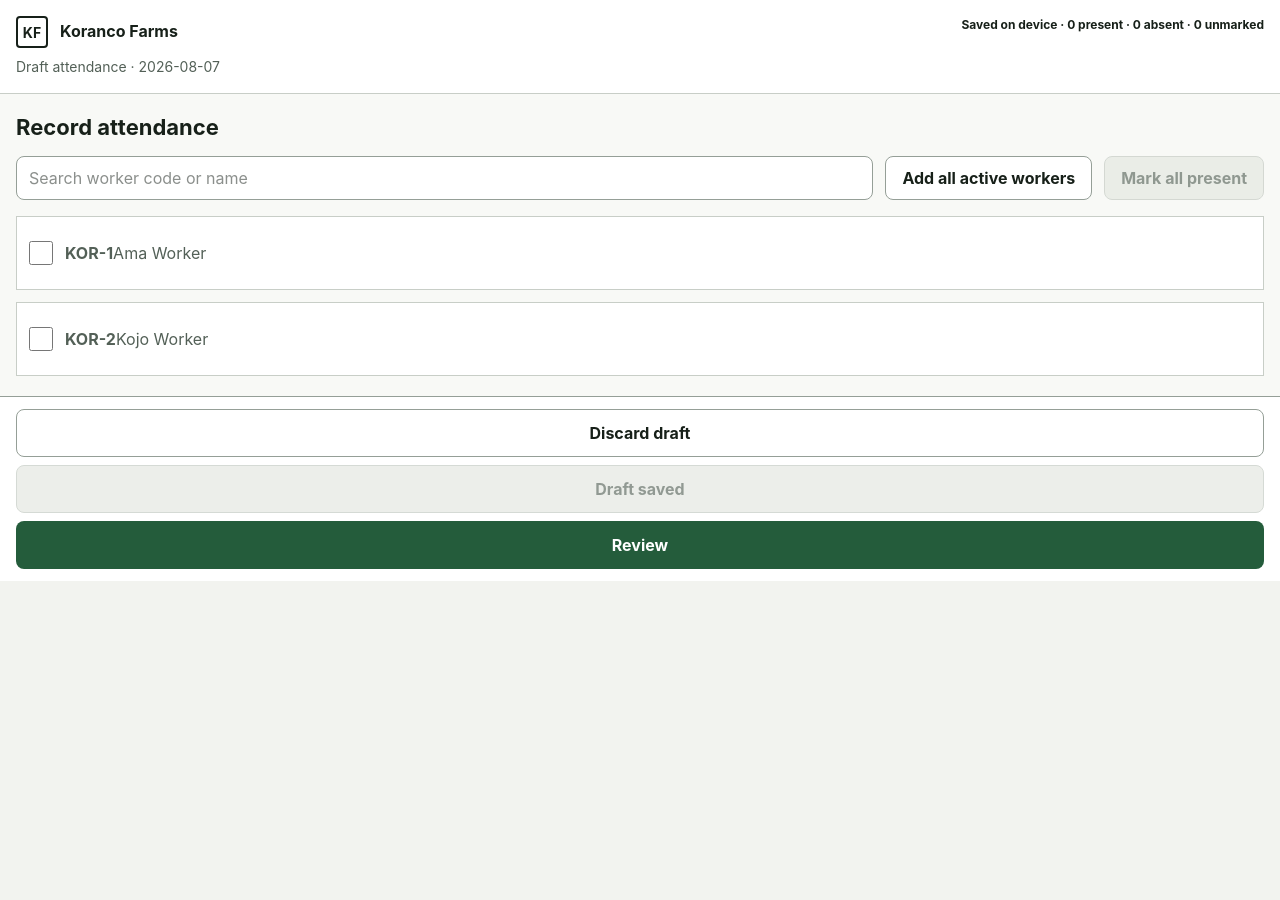
AttendanceWorkspace draft roster › saves the roster as one batch before review
The width and height of the screenshot is (1280, 900).
Expected: the text "Ama Worker" is shown, 113,243 -> 206,263
What coordinates should you click on to do the following:
click the button "Add all active workers"
I would click on:
 (989, 178)
Its box is 886,156 -> 1092,200.
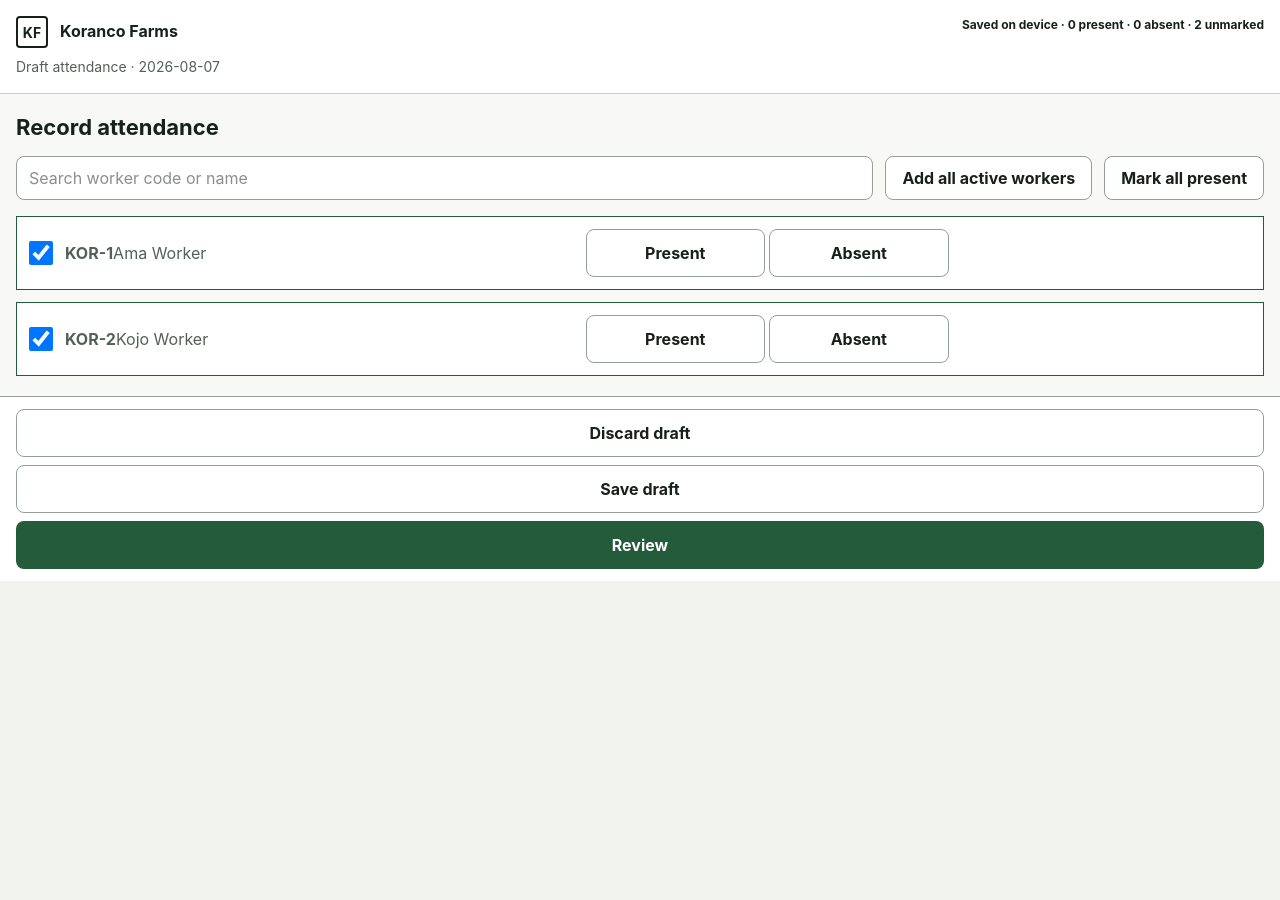
What coordinates should you click on to do the following:
click the button "Mark all present"
I would click on:
 (1184, 178)
Its box is 1104,156 -> 1264,200.
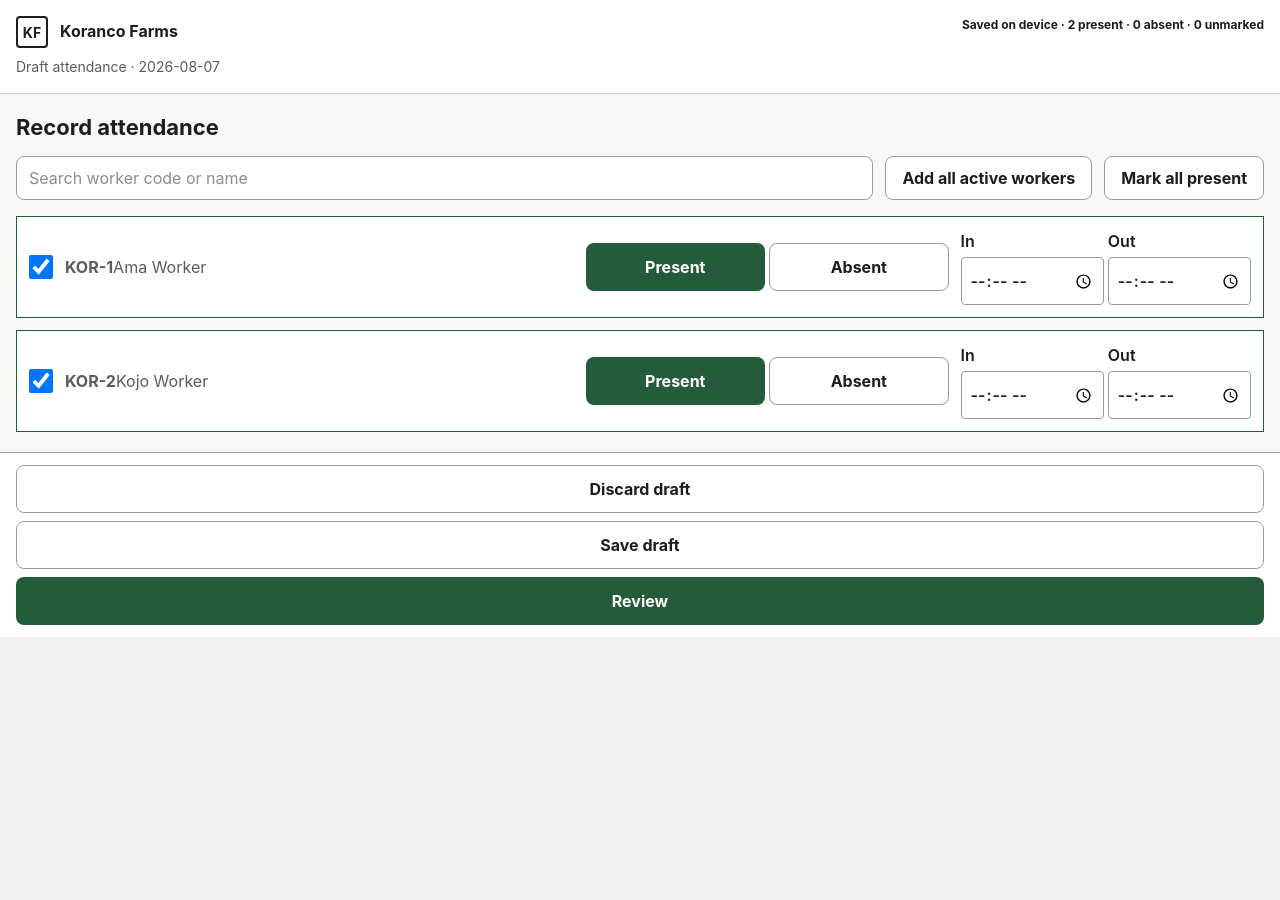
What coordinates should you click on to do the following:
click the button "Review"
I would click on:
 (640, 601)
Its box is 16,577 -> 1264,625.
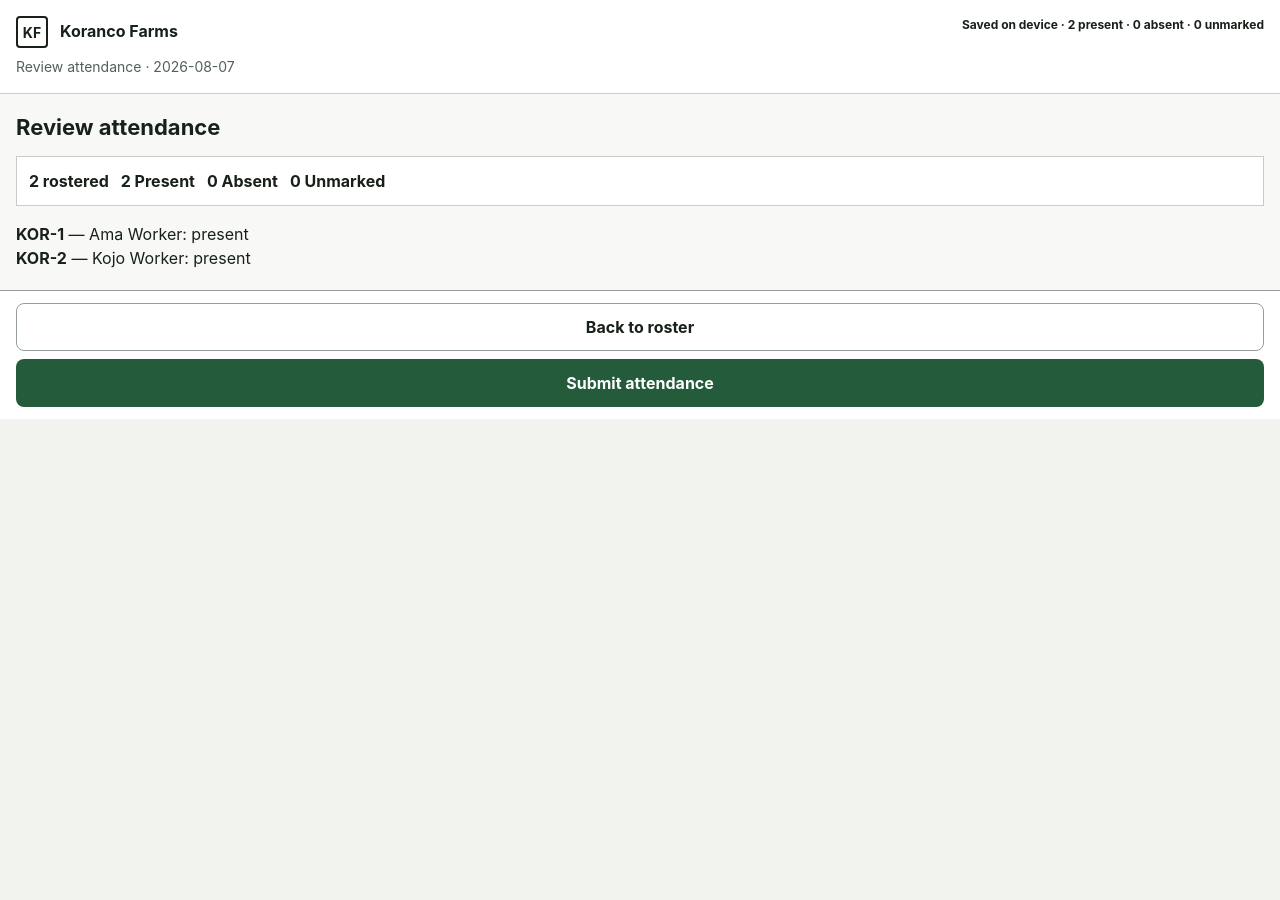
Expected: the heading "Review attendance" is shown, 16,114 -> 220,140
